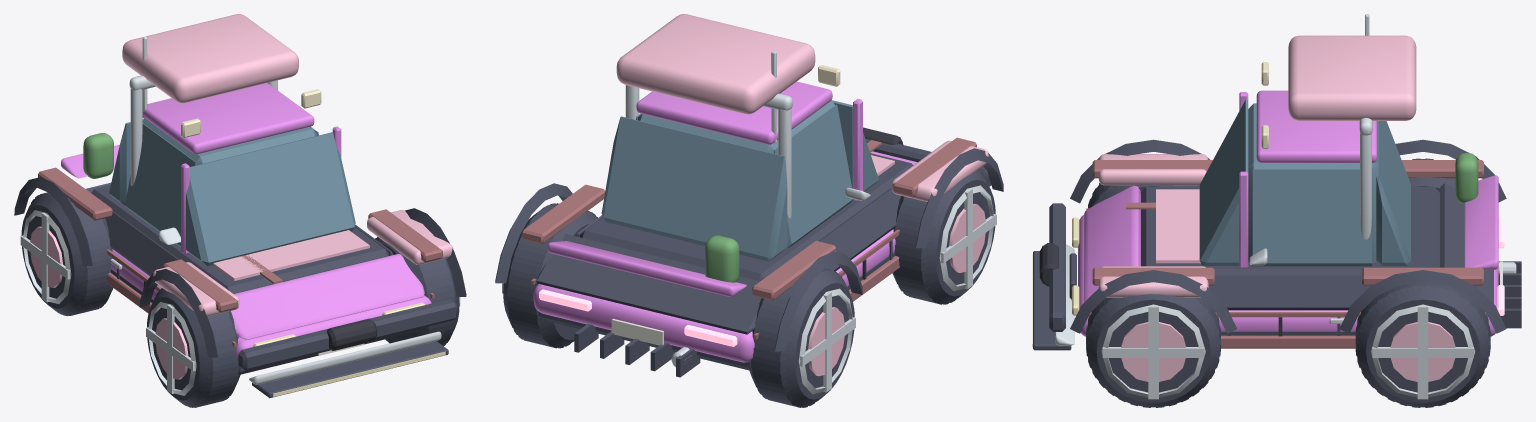
File: rockslide_racer.fbx
3 views of the same model, side by side, from view 1: azimuth 30°, elevation 25°; view 2: azimuth 150°, elevation 25°; view 3: azimuth 270°, elevation 25° (orthographic). The views are drawn at different scales.
Parts seen in each view (by area): view 1: Glass, Body, Trim, Accent3, Wheel_RR, Wheel_FR, Accent, Metal, Accent2, Wheel_FL, Metal2, Accent5 (+3 smaller); view 2: Glass, Trim, Body, Accent3, Wheel_RR, Accent, Wheel_FR, Metal, Wheel_RL, Metal2, Accent2, Accent5 (+3 smaller); view 3: Trim, Glass, Accent3, Body, Wheel_RL, Wheel_FL, Accent, Metal, Metal2, Accent2, Accent5, Trim2 (+4 smaller).
Boxes of the visible parts, x1,y1,x2,y2 form: Glass: (109, 118, 355, 266); Body: (61, 83, 431, 363); Trim: (14, 177, 466, 398); Accent3: (122, 14, 453, 316); Wheel_RR: (21, 192, 113, 316); Wheel_FR: (147, 288, 240, 407); Accent: (38, 167, 442, 346); Metal: (20, 210, 460, 395); Accent2: (129, 36, 441, 384); Wheel_FL: (375, 237, 459, 346); Metal2: (30, 226, 188, 379); Accent5: (83, 133, 113, 178); Glass: (601, 100, 878, 261); Trim: (495, 138, 1003, 377); Body: (533, 81, 917, 362); Accent3: (616, 14, 988, 201); Wheel_RR: (749, 268, 854, 407); Accent: (522, 137, 976, 339); Wheel_FR: (892, 170, 995, 304); Metal: (502, 185, 996, 394); Wheel_RL: (503, 203, 597, 348); Metal2: (808, 204, 985, 376); Accent2: (625, 51, 870, 218); Accent5: (705, 235, 739, 282); Trim: (1033, 139, 1521, 350); Glass: (1199, 99, 1410, 266); Accent3: (1098, 35, 1416, 297); Body: (1078, 90, 1498, 336); Wheel_RL: (1355, 282, 1490, 407); Wheel_FL: (1086, 294, 1220, 407); Accent: (1086, 160, 1487, 348); Metal: (1101, 262, 1516, 399); Metal2: (1121, 322, 1455, 381); Accent2: (1055, 14, 1372, 345); Accent5: (1455, 153, 1478, 203); Trim2: (1039, 243, 1282, 336).
Size of the model in its own units: 3.41 by 3.39 by 5.03.
